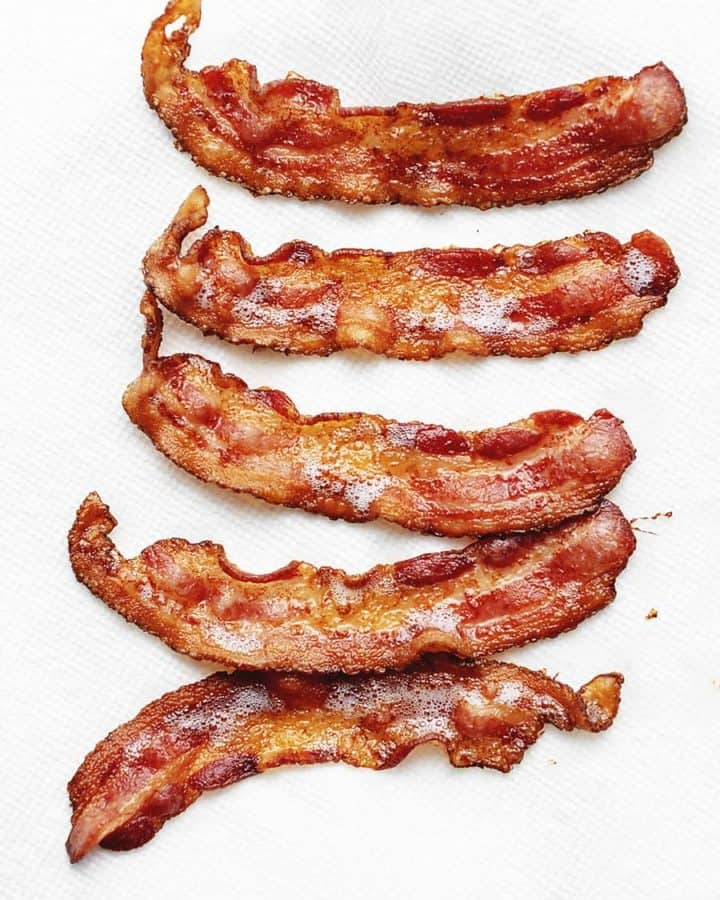bacon: (69, 340, 682, 531), (93, 172, 696, 363), (32, 486, 675, 663), (135, 26, 710, 220), (77, 657, 653, 842)
